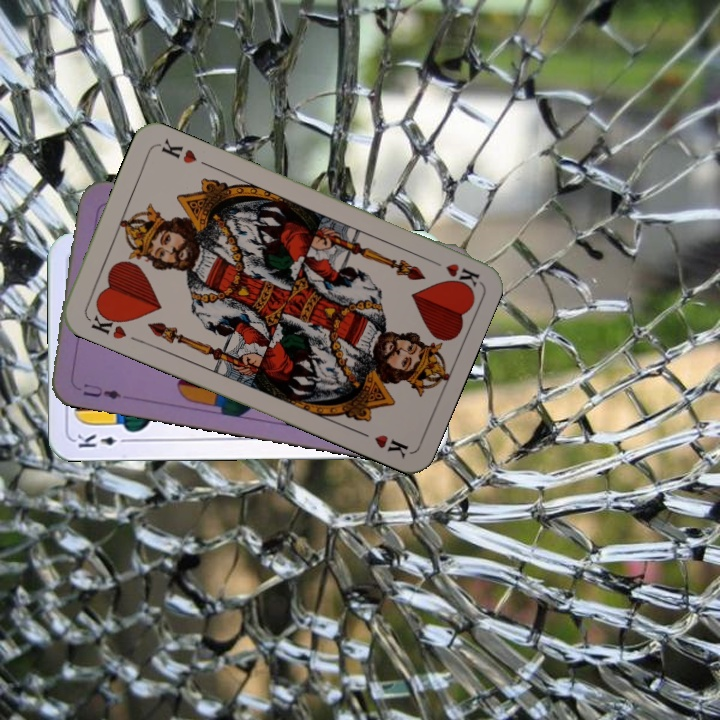EK: (73, 429, 132, 451)
EU: (79, 379, 124, 402)
HK: (423, 254, 482, 290), (84, 306, 129, 342)
